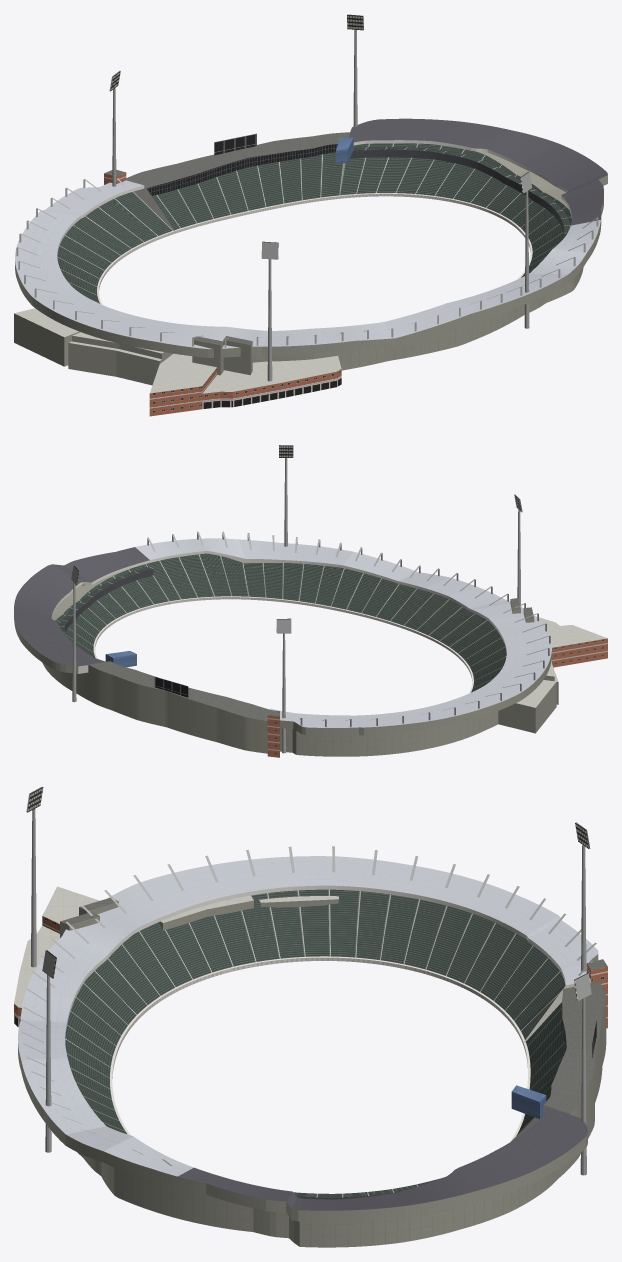
Rendered from subiaco_C_2000.glb.
The picture shows the model from 3 angles, top to bottom: view 1: azimuth 30°, elevation 25°; view 2: azimuth 150°, elevation 25°; view 3: azimuth 270°, elevation 25°; orthographic projection. The views are drawn at different scales.
Parts seen in each view (by area): view 1: subiacoC; view 2: subiacoC; view 3: subiacoC.
Boxes of the visible parts, x1,y1,x2,y2 form: subiacoC: (14,14,607,416); subiacoC: (14,445,607,757); subiacoC: (14,787,607,1247).
Size of the model in its own units: 274 by 68.95 by 189.
Materials: 16 (16 with a texture image).
